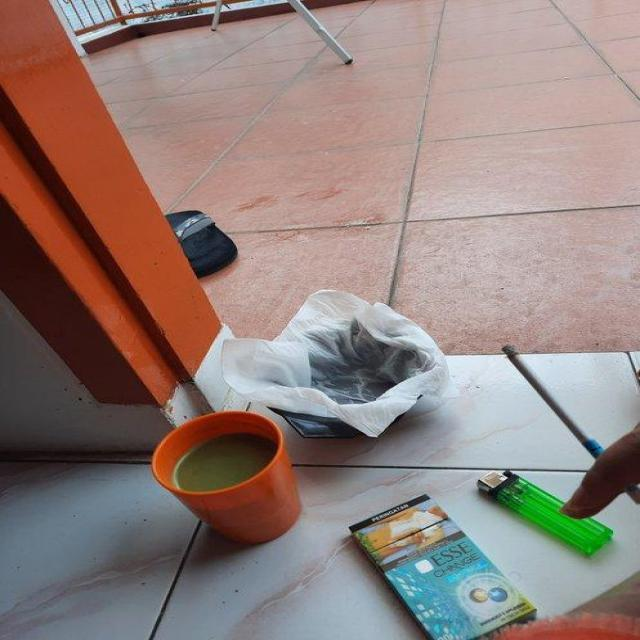rokok: (496, 334, 606, 456)
